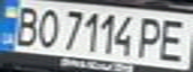1: (78, 9, 100, 53), (97, 10, 118, 55)
4: (112, 11, 139, 57)
7: (57, 7, 84, 52)
B: (6, 2, 42, 47)
E: (154, 16, 193, 63)
O: (33, 5, 63, 48)
P: (133, 13, 169, 60)
